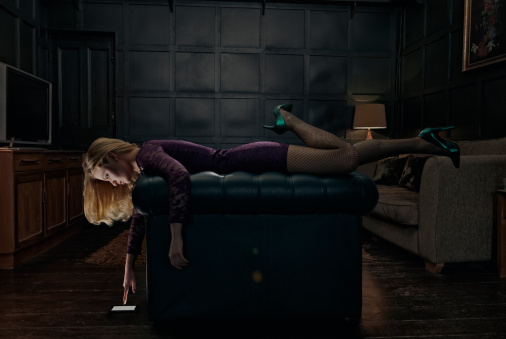deitado: (72, 126, 234, 297)
